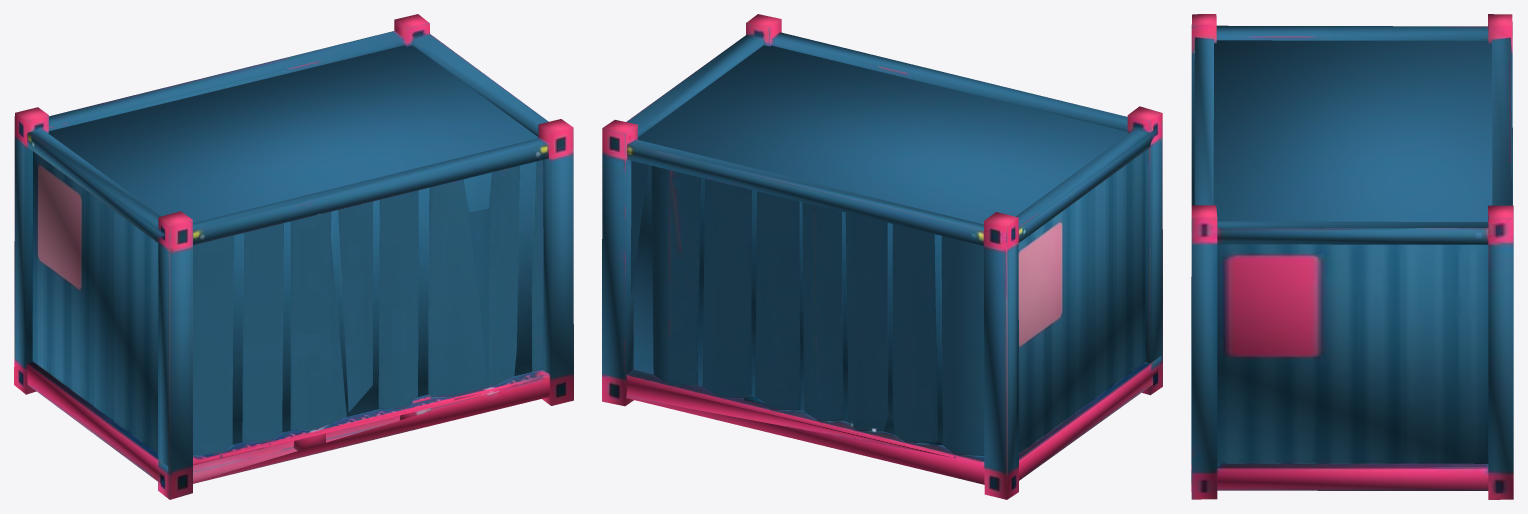
File: container.glb
3 views of the same model, side by side, from view 1: azimuth 30°, elevation 25°; view 2: azimuth 150°, elevation 25°; view 3: azimuth 270°, elevation 25° (orthographic). The views are drawn at different scales.
Size of the model in its own units: 1 by 0.6489 by 0.6688.
1 material, 1 textured.
